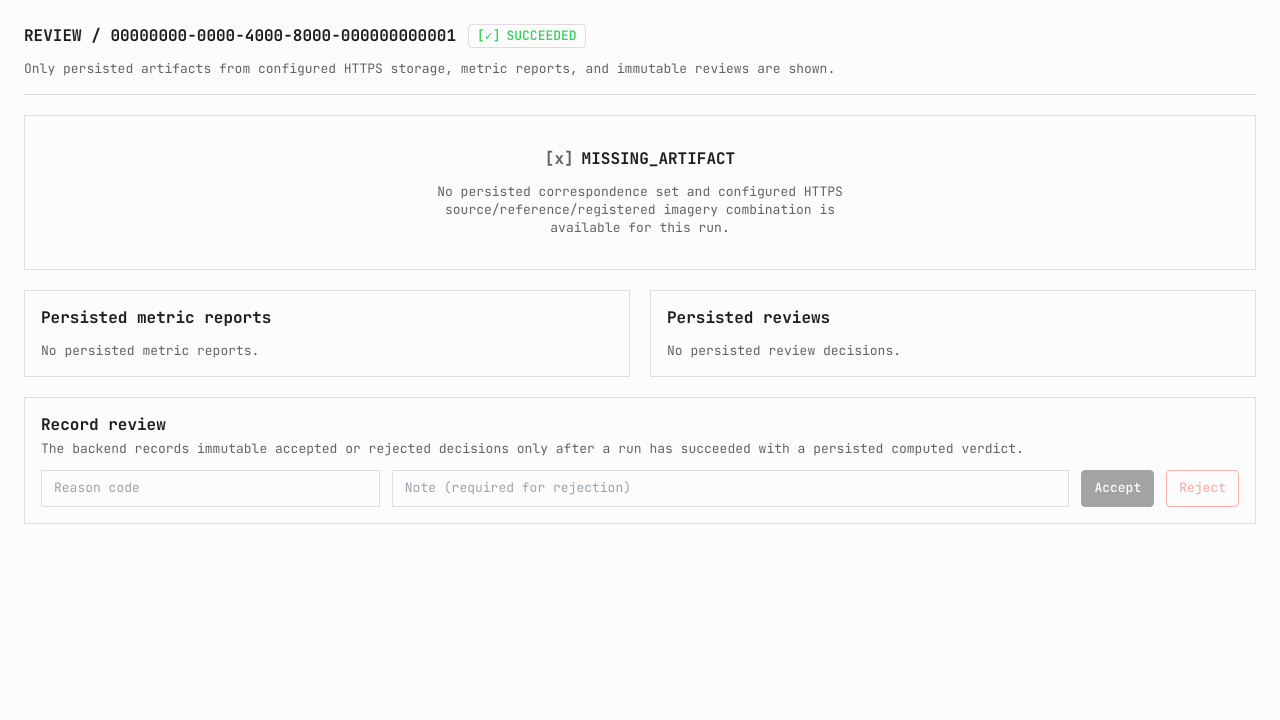
ReviewRoute role gating › leaves an eligible run reviewable for a Reviewer
The width and height of the screenshot is (1280, 720).
Type "looks-good" into the field with placeholder "Reason code" at (210, 489), box [41,470,380,507]
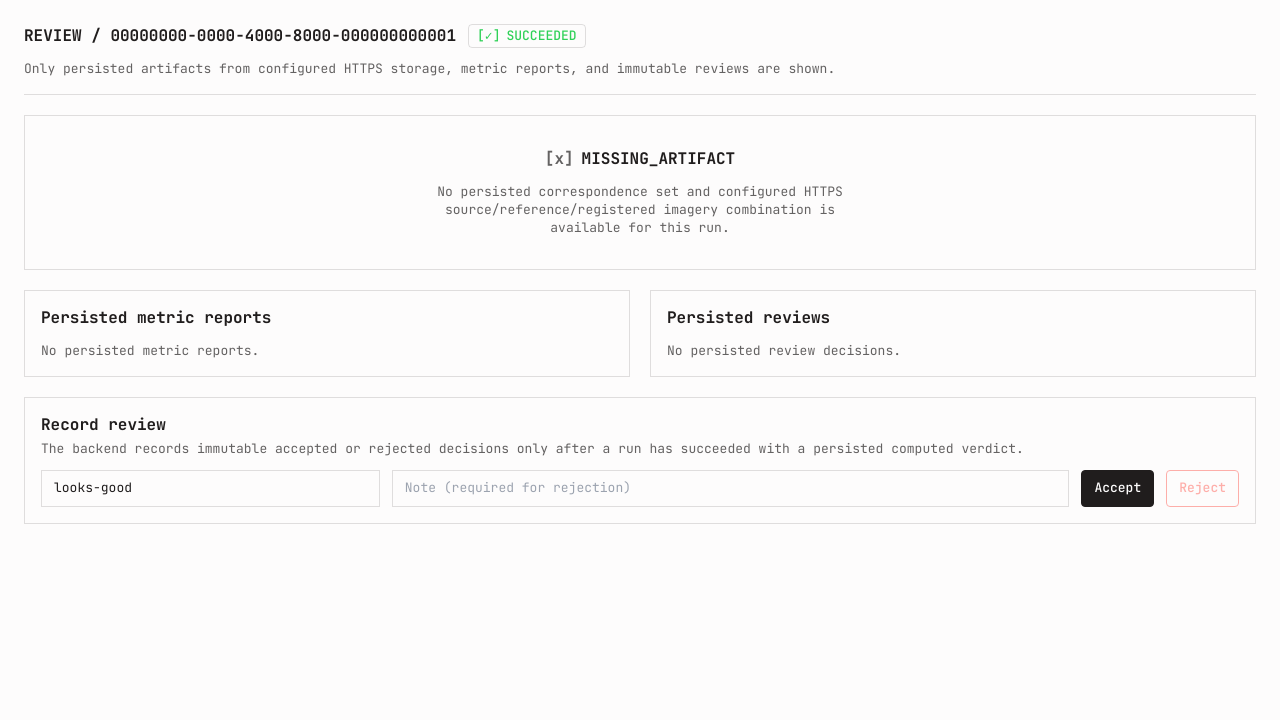
Type "confirmed" into the field with placeholder "Note (required for rejection)" at (731, 489), box [392,470,1069,507]
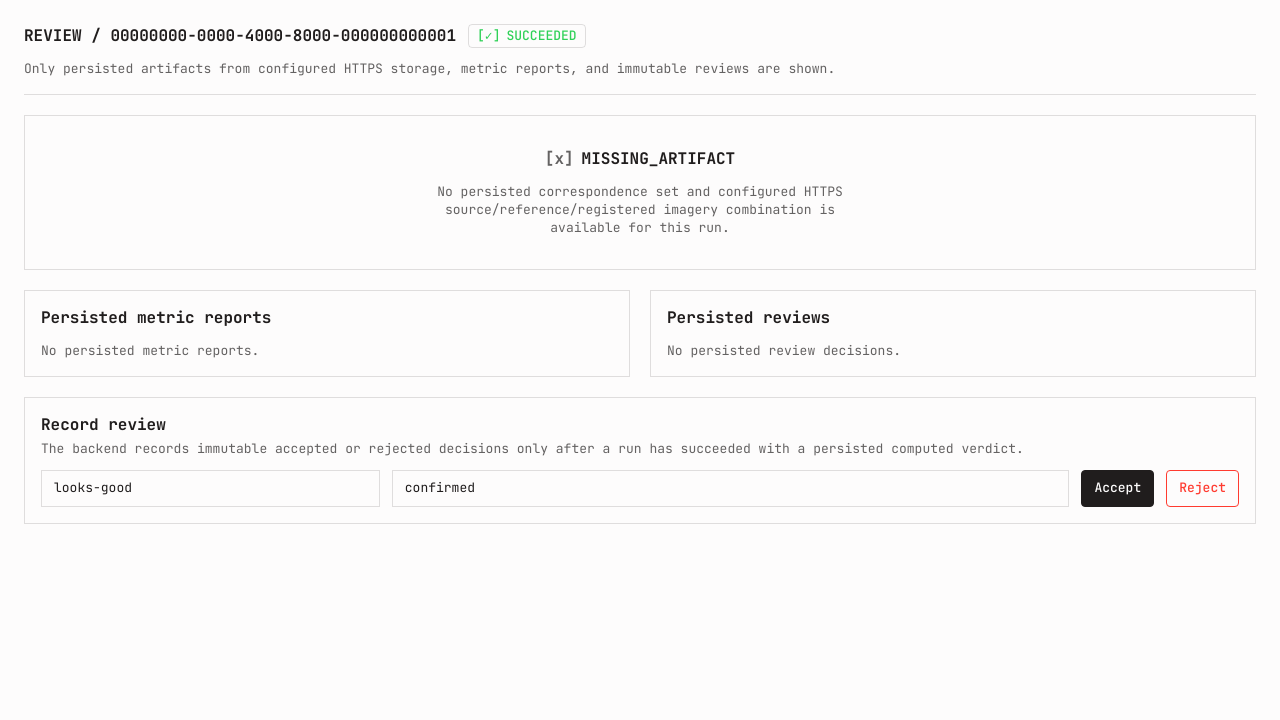
Now the button "Accept" is enabled, box [1081,470,1154,507]
Now the button "Reject" is enabled, box [1166,470,1239,507]
